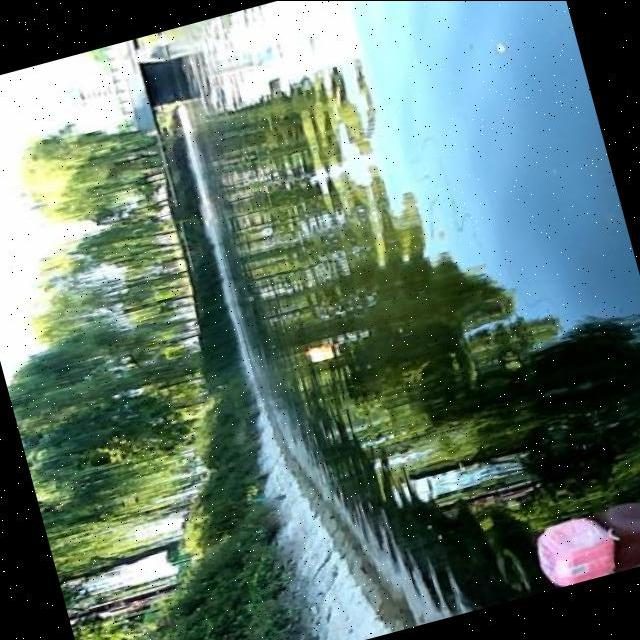Waste: (526, 510, 618, 594), (304, 338, 346, 367)
